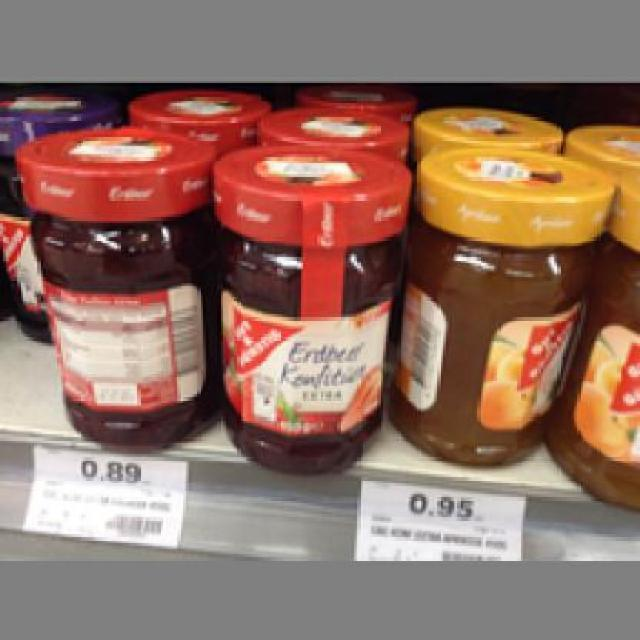Jam: (392, 143, 614, 463), (11, 122, 220, 452), (208, 140, 412, 477)
